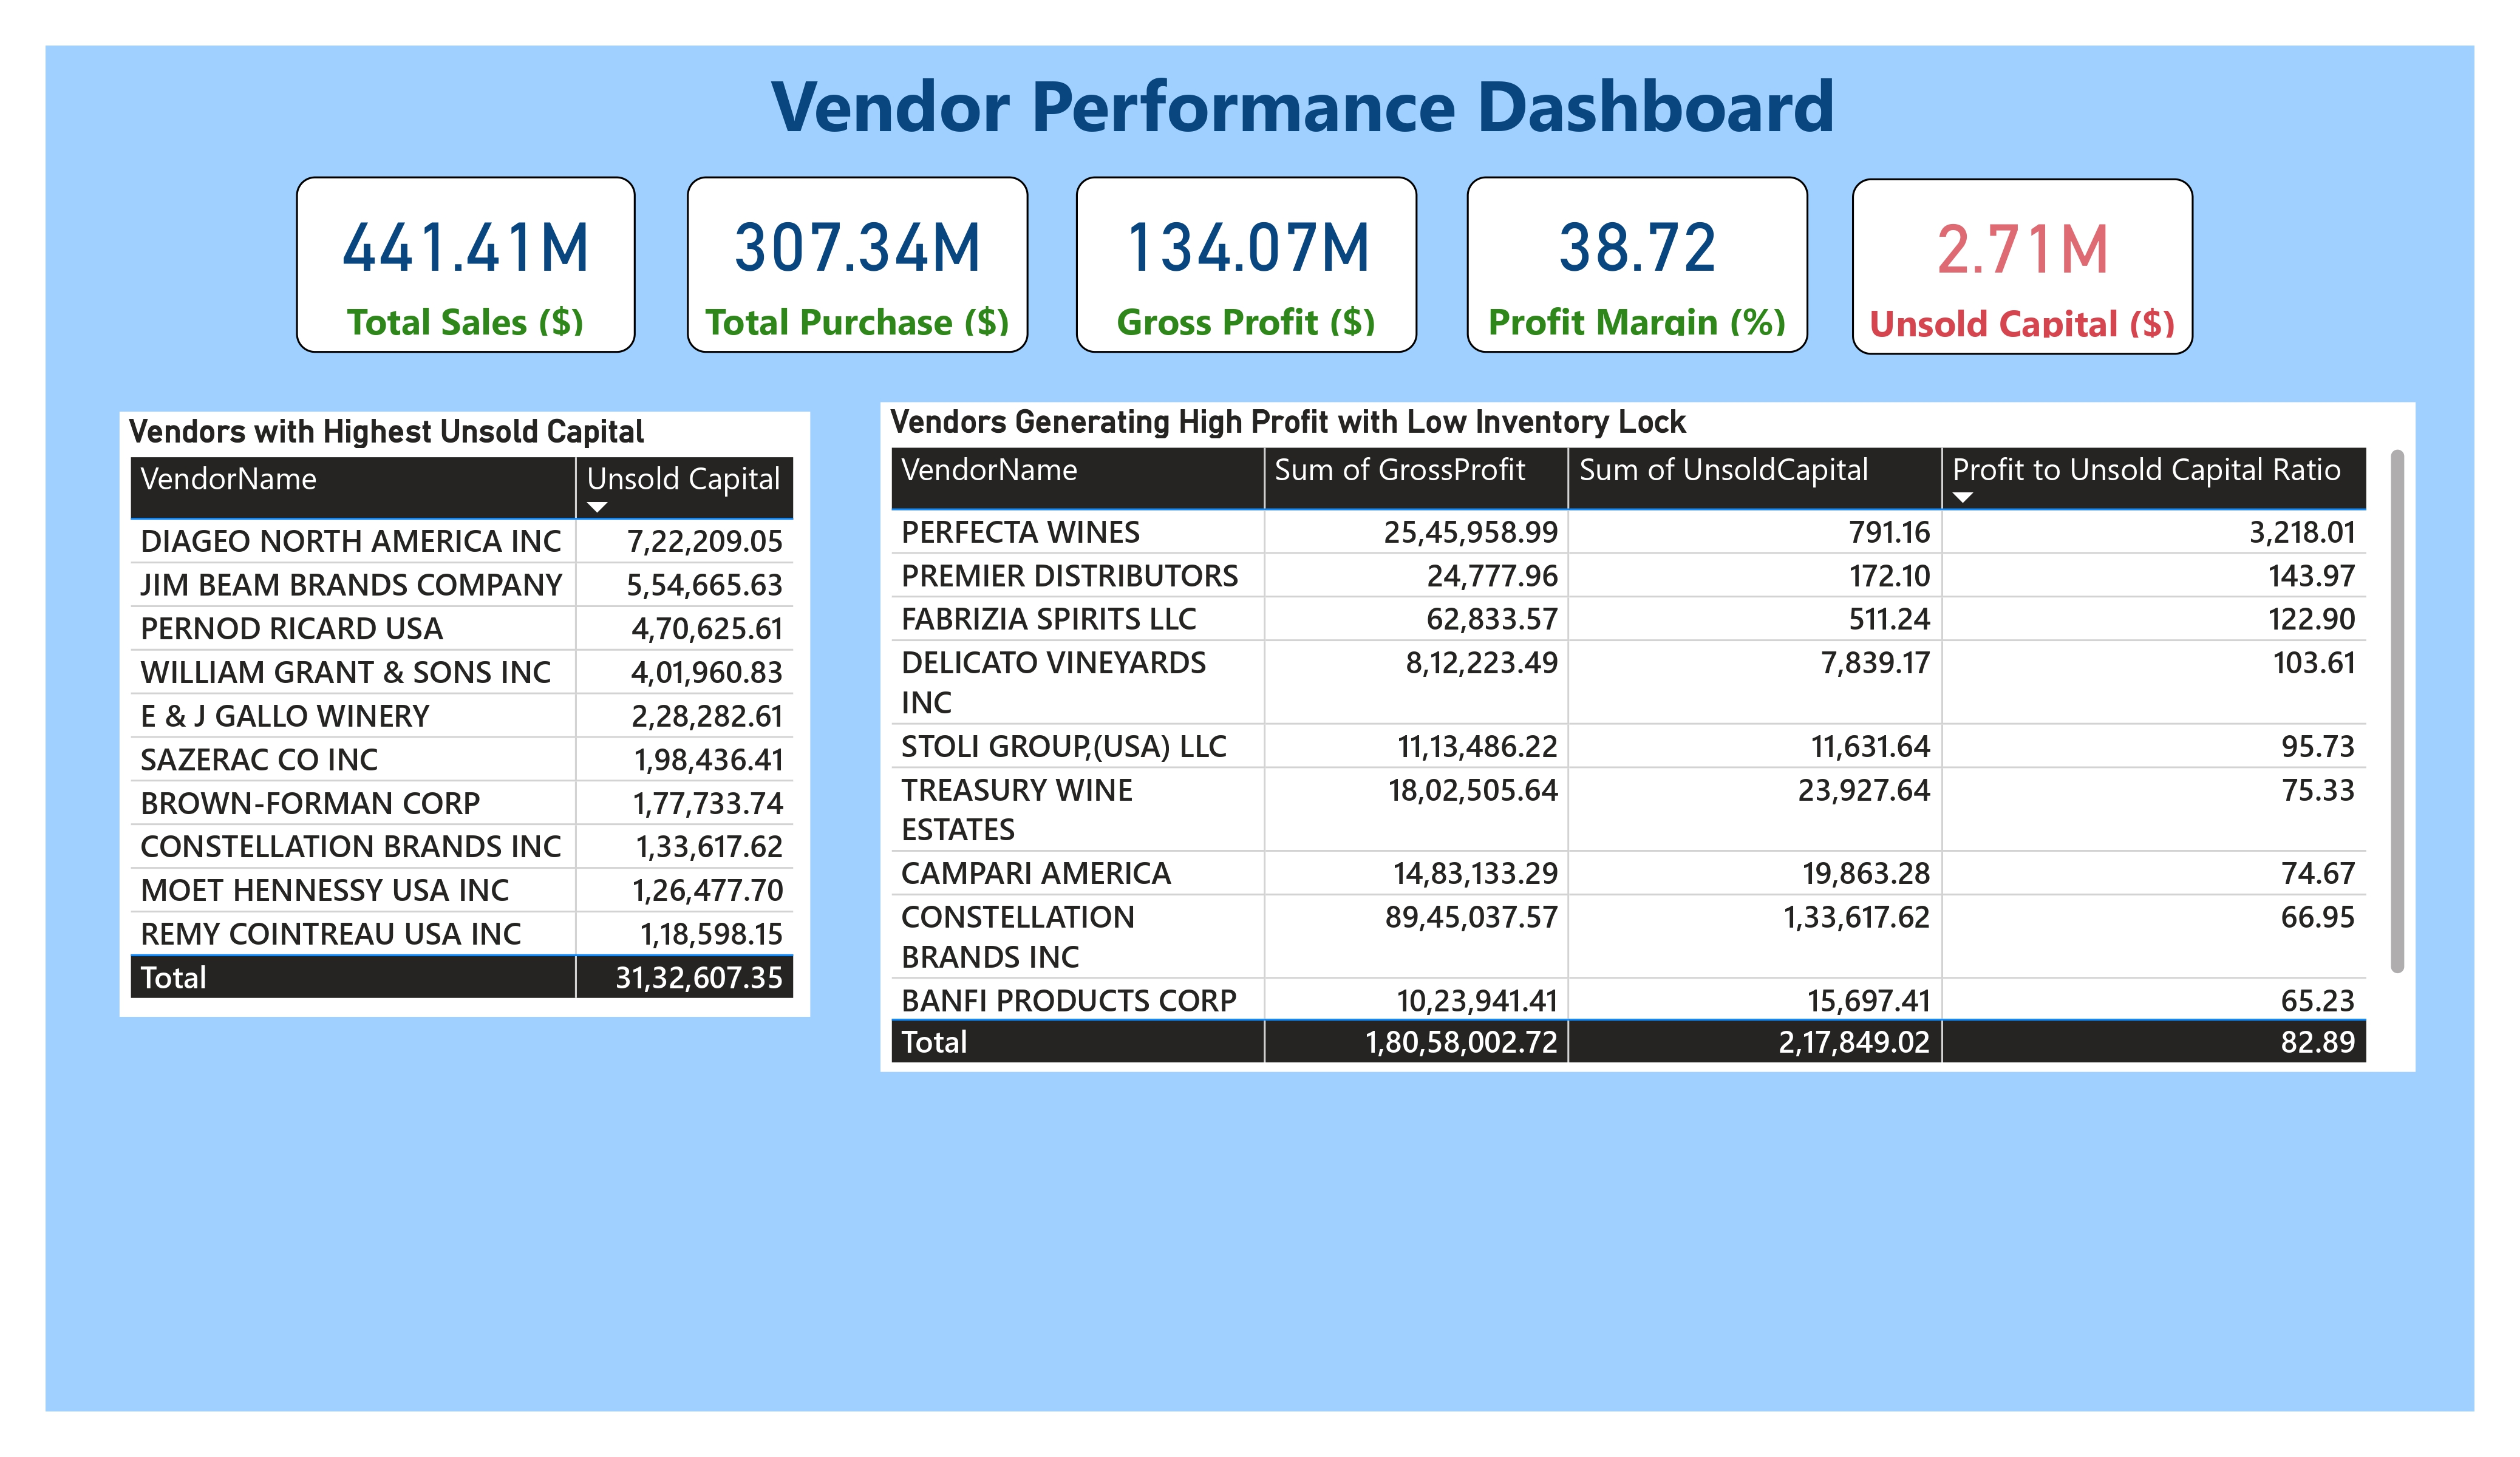

Layout of this report page (visuals, bound fields, positions):
{"tool":"powerbi","page":{"name":"Page 2","canvas":[1280,720],"ordinal":1},"visuals":[{"type":"card","fields":{"Values":["Sum(vendor_sales_sum.TotalSalesDollars)"]},"box":[131.5,68.8,179.8,92.9],"z":0},{"type":"card","fields":{"Values":["Sum(vendor_sales_sum.TotalPurchaseDollars)"]},"box":[337.7,68.8,180,93.3],"z":1000},{"type":"textbox","box":[310,0,706.2,68.8],"z":2000},{"type":"card","fields":{"Values":["Sum(vendor_sales_sum.GrossProfit)"]},"box":[543.2,68.8,180,93.3],"z":3000},{"type":"card","fields":{"Values":["Avg(vendor_sales_sum.ProfitMargin)"]},"box":[748.8,68.8,180,93.3],"z":4000},{"type":"card","fields":{"Values":["Sum(vendor_sales_sum.UnsoldCapital)"]},"box":[951.5,69.7,180,93.8],"z":5000},{"type":"tableEx","title":"Vendors with Highest Unsold Capital","fields":{"Values":["vendor_sales_sum.VendorName","Sum(vendor_sales_sum.UnsoldCapital)"]},"box":[39,193.4,363.7,319],"z":6000},{"type":"tableEx","title":"Vendors Generating High Profit with Low Inventory Lock","fields":{"Values":["vendor_sales_sum.VendorName","Sum(vendor_sales_sum.GrossProfit)","Sum(vendor_sales_sum.UnsoldCapital)","vendor_sales_sum.Profit to Unsold Capital Ratio"]},"box":[440.2,187.6,808.3,353.6],"z":7000}]}

Visuals, with their boxes in screenshot pixels (x1, y1, x2, y2):
card - Sum(vendor_sales_sum.TotalSalesDollars): [295,176,636,352]
card - Sum(vendor_sales_sum.TotalPurchaseDollars): [686,176,1028,353]
textbox: [634,46,1974,176]
card - Sum(vendor_sales_sum.GrossProfit): [1077,176,1418,353]
card - Avg(vendor_sales_sum.ProfitMargin): [1466,176,1808,353]
card - Sum(vendor_sales_sum.UnsoldCapital): [1851,178,2193,356]
"Vendors with Highest Unsold Capital" tableEx: [120,412,809,1017]
"Vendors Generating High Profit with Low Inventory Lock" tableEx: [881,401,2415,1072]
